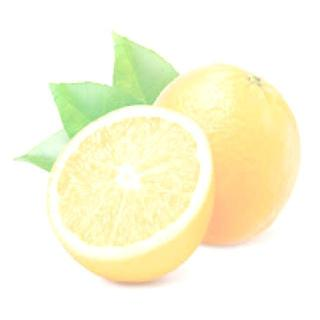orange: (37, 95, 225, 297), (142, 43, 308, 255)
